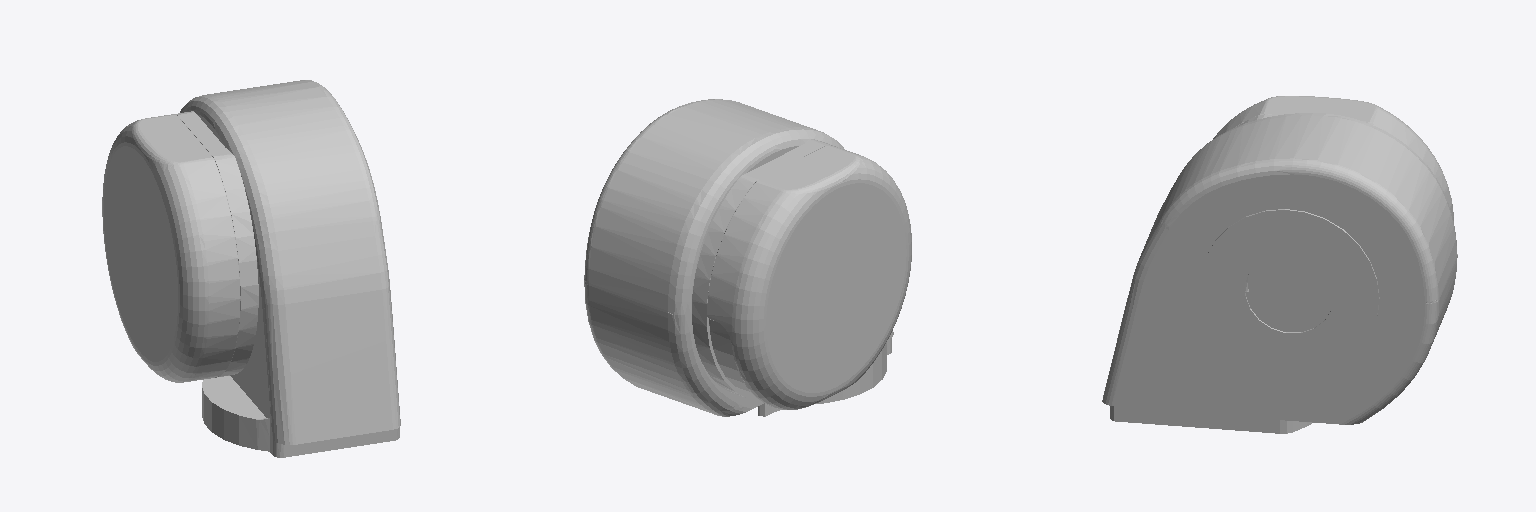
Rendered from left_hip_pitch_link_collisions.obj.
3 views of the same model, side by side, from view 1: azimuth 30°, elevation 25°; view 2: azimuth 150°, elevation 25°; view 3: azimuth 270°, elevation 25° (orthographic).
Bounding box in the file's own units: 0.0826 × 0.0988 × 0.1172.